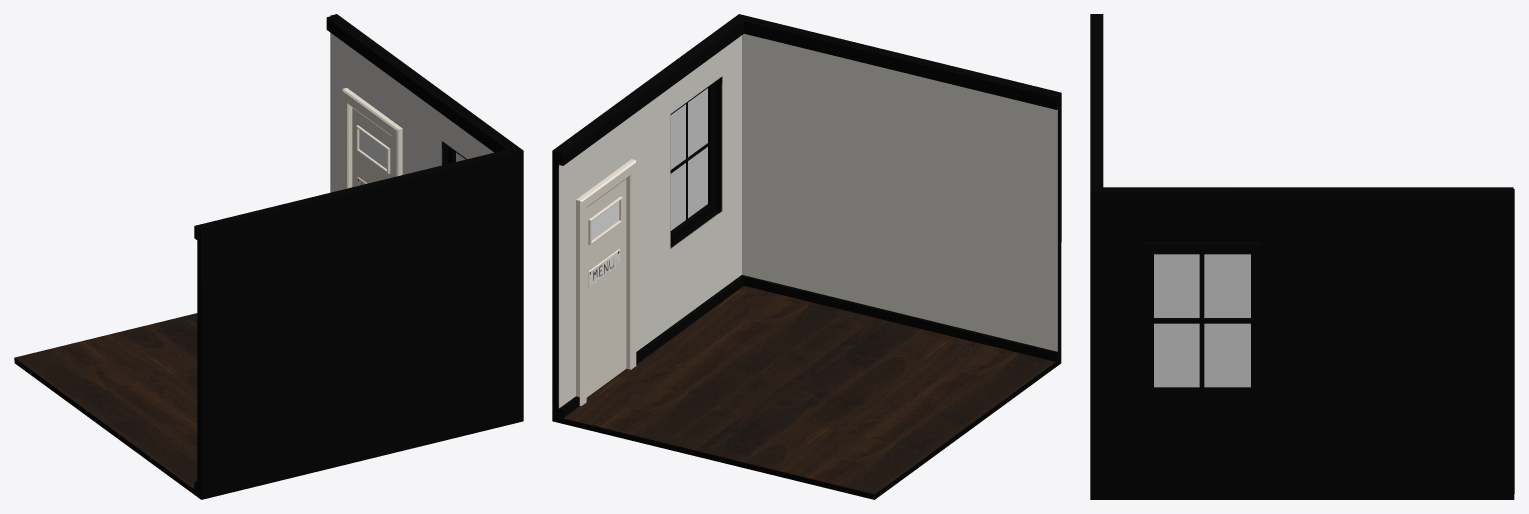
Rendered from mdl_PlayerRoom.fbx.
The picture shows the model from 3 angles, left to right: view 1: azimuth 30°, elevation 25°; view 2: azimuth 150°, elevation 25°; view 3: azimuth 270°, elevation 25°; orthographic projection. The views are drawn at different scales.
Visible parts, largest first — view 1: PlayerRoom.001, PlayerRoom.002; view 2: PlayerRoom.001, PlayerRoom.002; view 3: PlayerRoom.001.
Boxes of the visible parts, x1,y1,x2,y2 form: PlayerRoom.001: [14, 14, 523, 499]; PlayerRoom.002: [342, 88, 402, 189]; PlayerRoom.001: [552, 14, 1061, 499]; PlayerRoom.002: [576, 159, 636, 405]; PlayerRoom.001: [1090, 14, 1514, 499].
Size of the model in its own units: 521 by 409 by 512.
